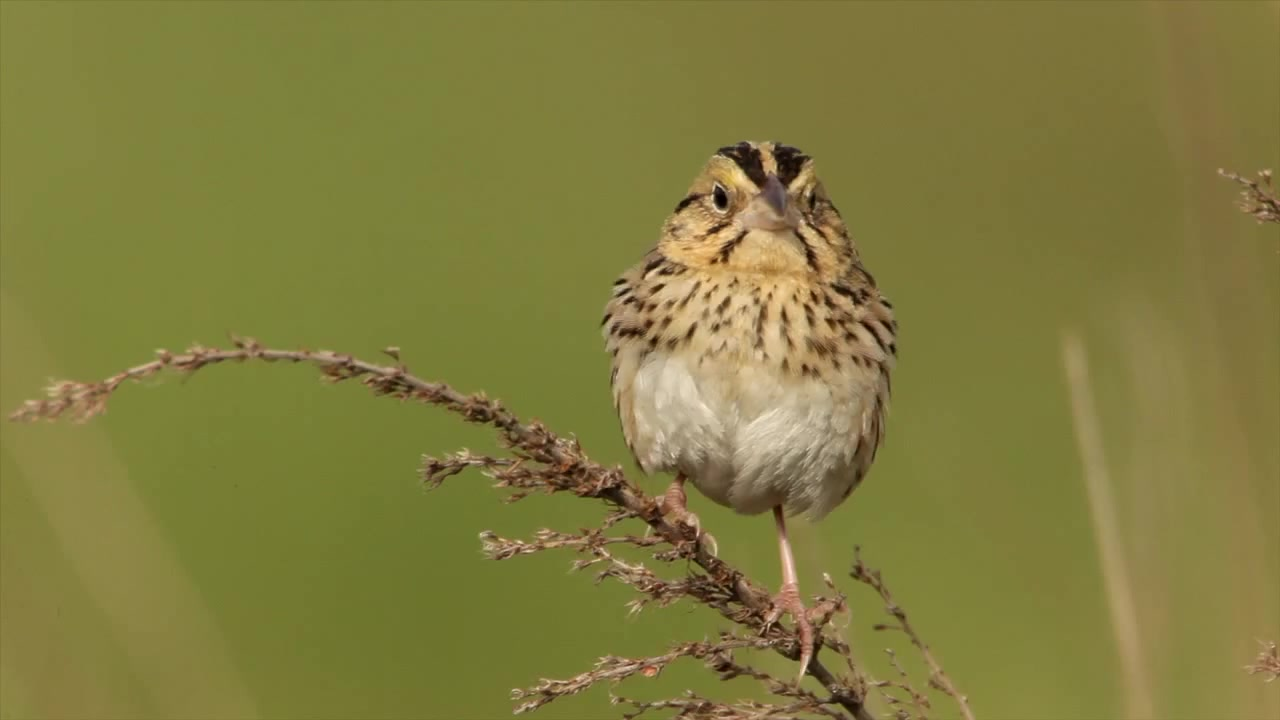bird: (599, 140, 900, 688)
